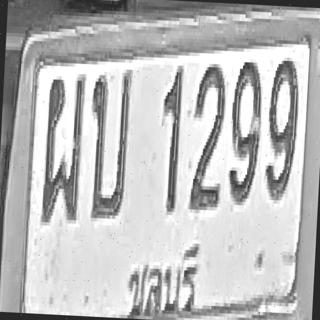A26: (86, 68, 132, 220)
A28: (41, 74, 85, 222)
N01: (158, 65, 183, 212)
N02: (189, 61, 226, 209)
N09: (227, 58, 263, 203), (264, 56, 300, 201)
P13: (122, 237, 201, 320)
